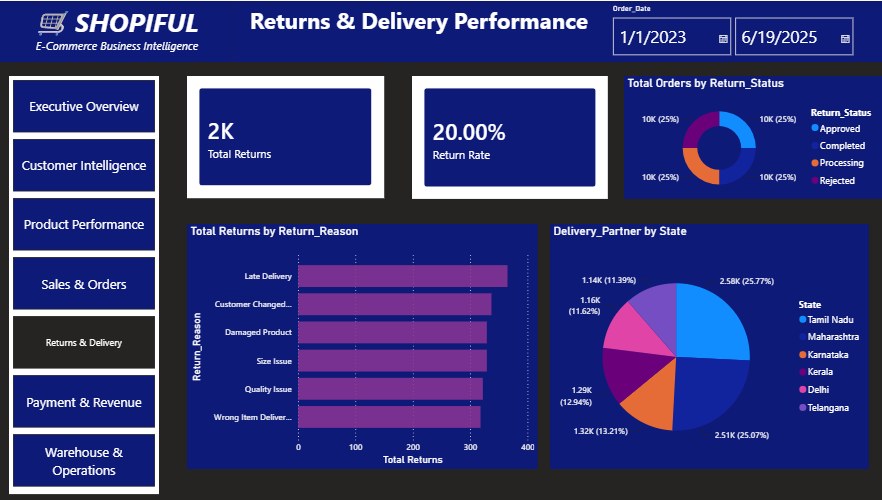

What the dashboard file says about the page in this screenshot:
{"tool":"powerbi","page":{"name":"Returns & Delivery","canvas":[1280,720],"ordinal":4},"visuals":[{"type":"textbox","box":[0,0,341.3,87.8],"z":0},{"type":"cardVisual","fields":{"Data":["cartnova returns.Total Returns"]},"box":[273.7,108.3,283.9,175.6],"z":1000},{"type":"pieChart","title":"Delivery_Partner by State","fields":{"Y":["CountNonNull(cartnova deliveries.Delivery_Partner)"],"Category":["cartnova customers.State"]},"box":[796.3,321.1,459.4,352.8],"z":2000},{"type":"donutChart","fields":{"Category":["cartnova returns.Return_Status"],"Y":["cartnova orders.Total Orders"]},"box":[902.9,108,377.3,177.1],"z":3000},{"type":"barChart","fields":{"Y":["cartnova returns.Total Returns"],"Category":["cartnova returns.Return_Reason"]},"box":[273.6,321.1,505.4,352.8],"z":4000},{"type":"cardVisual","fields":{"Data":["cartnova returns.Return Rate"]},"box":[597.6,108,282.2,177.1],"z":5000},{"type":"slicer","fields":{"Values":["cartnova orders.Order_Date"]},"box":[873.9,0,406.1,87.8],"z":6000},{"type":"textbox","box":[341.3,0,532.8,87.8],"z":7000},{"type":"pageNavigator","box":[17.3,108,216,601.9],"z":8000}]}

Visuals, with their boxes in screenshot pixels (x1, y1, x2, y2), scaled from the page's 1280x720 canvas onto the 882x500 screenshot:
textbox: 0:0:235:61
cardVisual - cartnova returns.Total Returns: 189:75:384:197
"Delivery_Partner by State" pieChart: 549:223:865:468
donutChart - cartnova returns.Return_Status x cartnova orders.Total Orders: 622:75:881:198
barChart - cartnova returns.Total Returns x cartnova returns.Return_Reason: 189:223:537:468
cardVisual - cartnova returns.Return Rate: 412:75:606:198
slicer - cartnova orders.Order_Date: 602:0:881:61
textbox: 235:0:602:61
pageNavigator: 12:75:161:493
